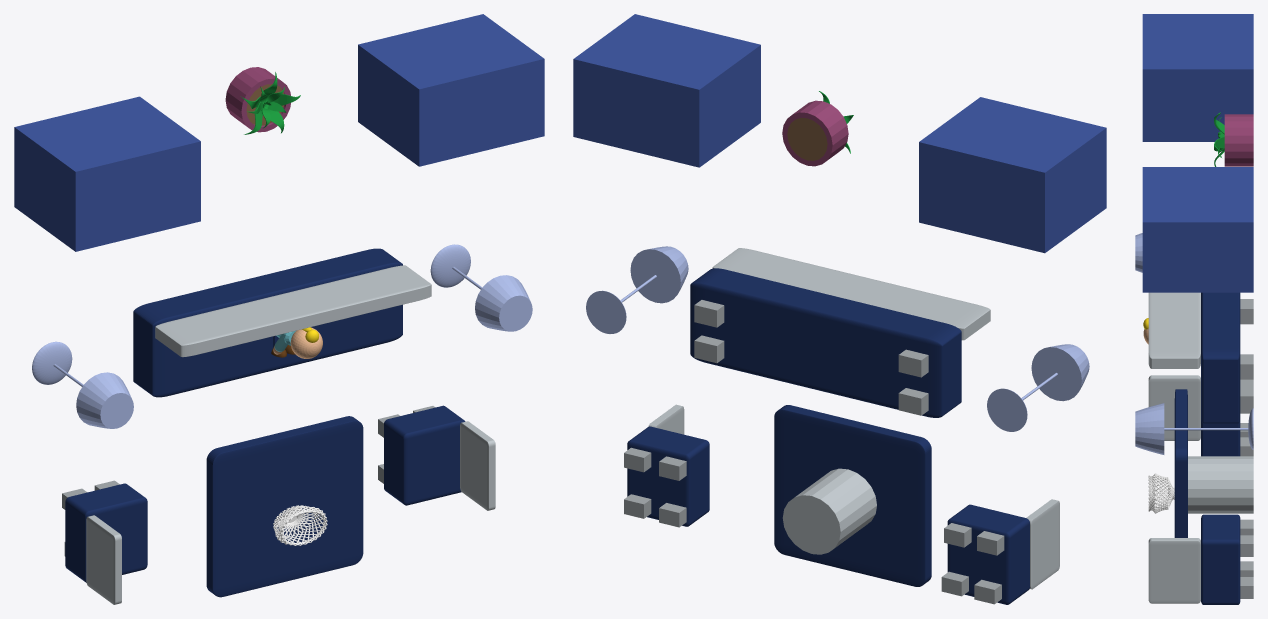
The model's file is tinker.obj.
The picture shows the model from 3 angles, left to right: view 1: azimuth 30°, elevation 25°; view 2: azimuth 150°, elevation 25°; view 3: azimuth 270°, elevation 25°; orthographic projection. The views are drawn at different scales.
Parts seen in each view (by area): view 1: group_0_1650274, group_0_3888547, group_0_12568524, group_0_11452141, group_0_9848949, group_0_16448250, group_0_1481787, group_0_16500122; view 2: group_0_1650274, group_0_3888547, group_0_12568524, group_0_11452141, group_0_10988977, group_0_9848949, group_0_9070665; view 3: group_0_3888547, group_0_12568524, group_0_1650274, group_0_10988977, group_0_11452141, group_0_9848949, group_0_16448250, group_0_1481787.
Boxes of the visible parts, box(x1,y1,x2,y2) form: group_0_1650274: box(65, 248, 465, 597); group_0_3888547: box(14, 14, 544, 251); group_0_12568524: box(86, 265, 495, 604); group_0_11452141: box(32, 244, 532, 428); group_0_9848949: box(225, 67, 290, 132); group_0_16448250: box(273, 505, 327, 545); group_0_1481787: box(241, 72, 300, 134); group_0_16500122: box(273, 327, 322, 358); group_0_1650274: box(627, 268, 1029, 604); group_0_3888547: box(573, 14, 1106, 253); group_0_12568524: box(648, 248, 1059, 589); group_0_11452141: box(586, 246, 1089, 431); group_0_10988977: box(624, 300, 1004, 604); group_0_9848949: box(782, 100, 848, 166); group_0_9070665: box(787, 117, 827, 160); group_0_3888547: box(1142, 14, 1253, 292); group_0_12568524: box(1148, 292, 1253, 603); group_0_1650274: box(1174, 292, 1240, 604); group_0_10988977: box(1240, 299, 1253, 598); group_0_11452141: box(1135, 233, 1253, 454); group_0_9848949: box(1224, 114, 1253, 166); group_0_16448250: box(1148, 473, 1174, 513); group_0_1481787: box(1214, 112, 1224, 166).
Size of the model in its own units: 187 by 186 by 45.
